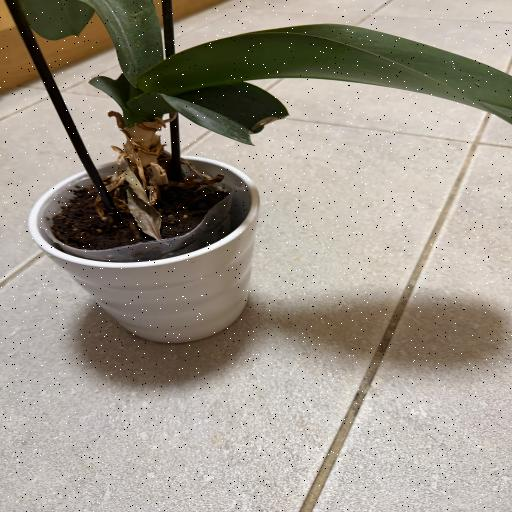Plant Pot: (26, 152, 262, 345)
